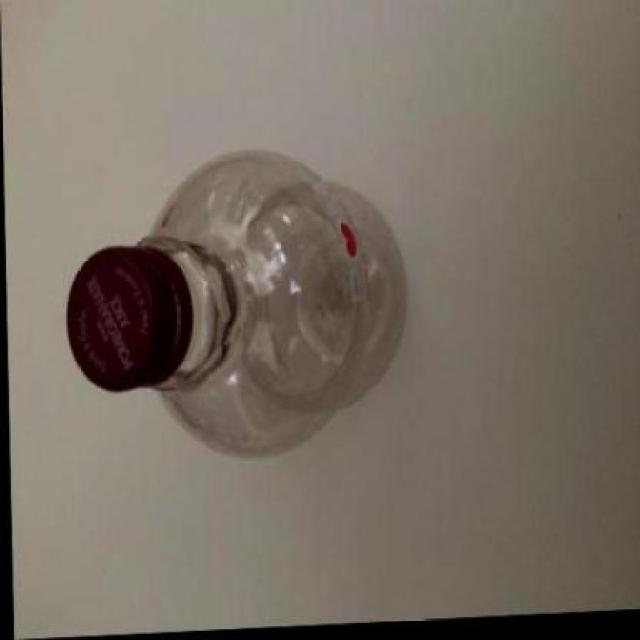Plastic: (65, 139, 416, 466)
